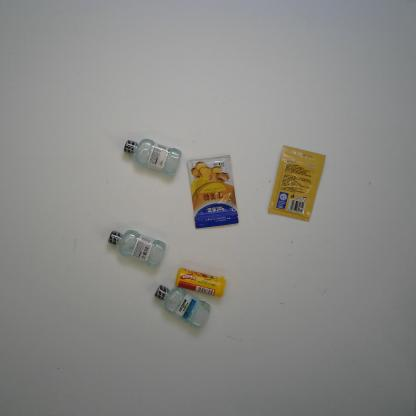Candy: (174, 267, 228, 300)
Personal Hygiene: (152, 281, 214, 330), (107, 227, 168, 272), (122, 136, 183, 178)
Seasoner: (267, 144, 328, 222), (186, 152, 240, 229)
